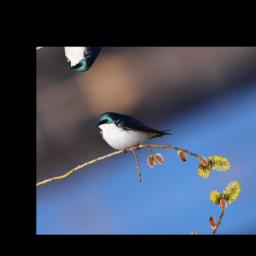Swallow: (89, 91, 174, 161)
